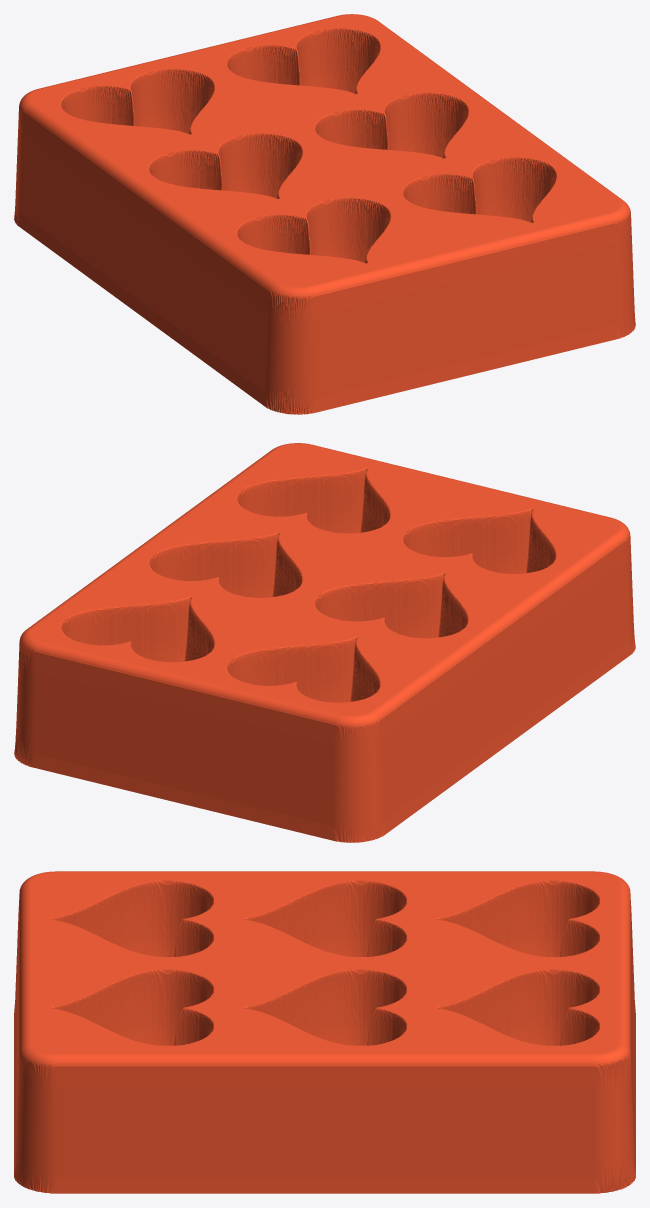
Rendered from mold.glb.
3 renders of one model, top to bottom at view 1: azimuth 30°, elevation 25°; view 2: azimuth 150°, elevation 25°; view 3: azimuth 270°, elevation 25°, orthographic. The views are drawn at different scales.
Parts seen in each view (by area): view 1: geometry_0; view 2: geometry_0; view 3: geometry_0.
Part boxes in pixels (<box>): geometry_0: <box>14,14,635,414</box>; geometry_0: <box>14,443,635,842</box>; geometry_0: <box>14,871,635,1193</box>.
Size of the model in its own units: 0.0996 by 0.0314 by 0.1337.
